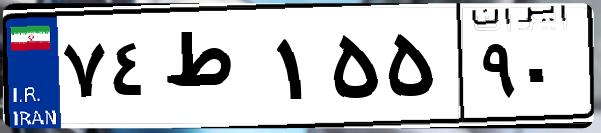0: (525, 38, 570, 115)
1: (270, 28, 330, 110)
4: (110, 28, 158, 98)
5: (385, 28, 445, 110), (330, 28, 385, 110)
7: (57, 26, 110, 100)
9: (475, 38, 525, 113)
ط: (158, 20, 270, 120)
